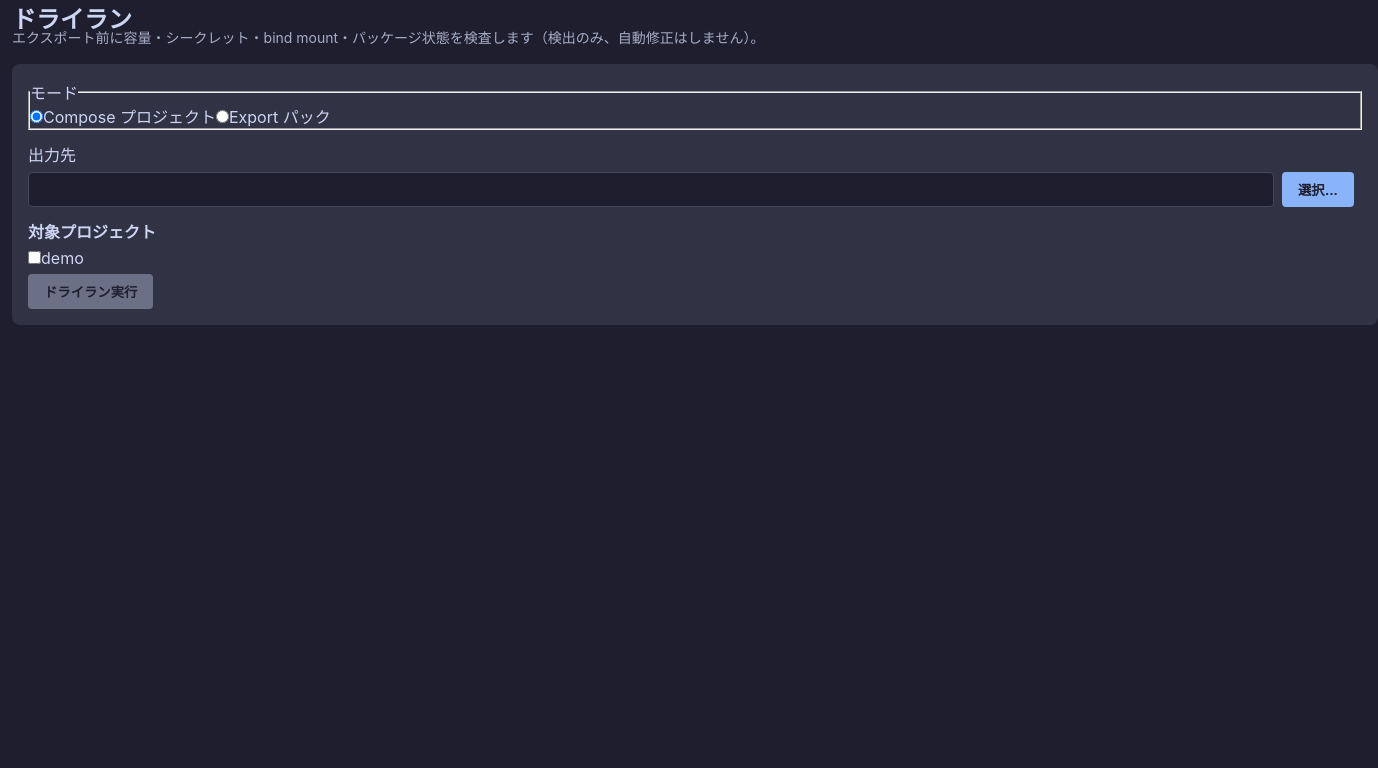
Test case: DryRunPage › 実行成功で空結果メッセージ
Expected: the text "demo" is shown, [28,248,84,268]
Type "/tmp/out" into the field at (651,189), box [28,172,1274,207]
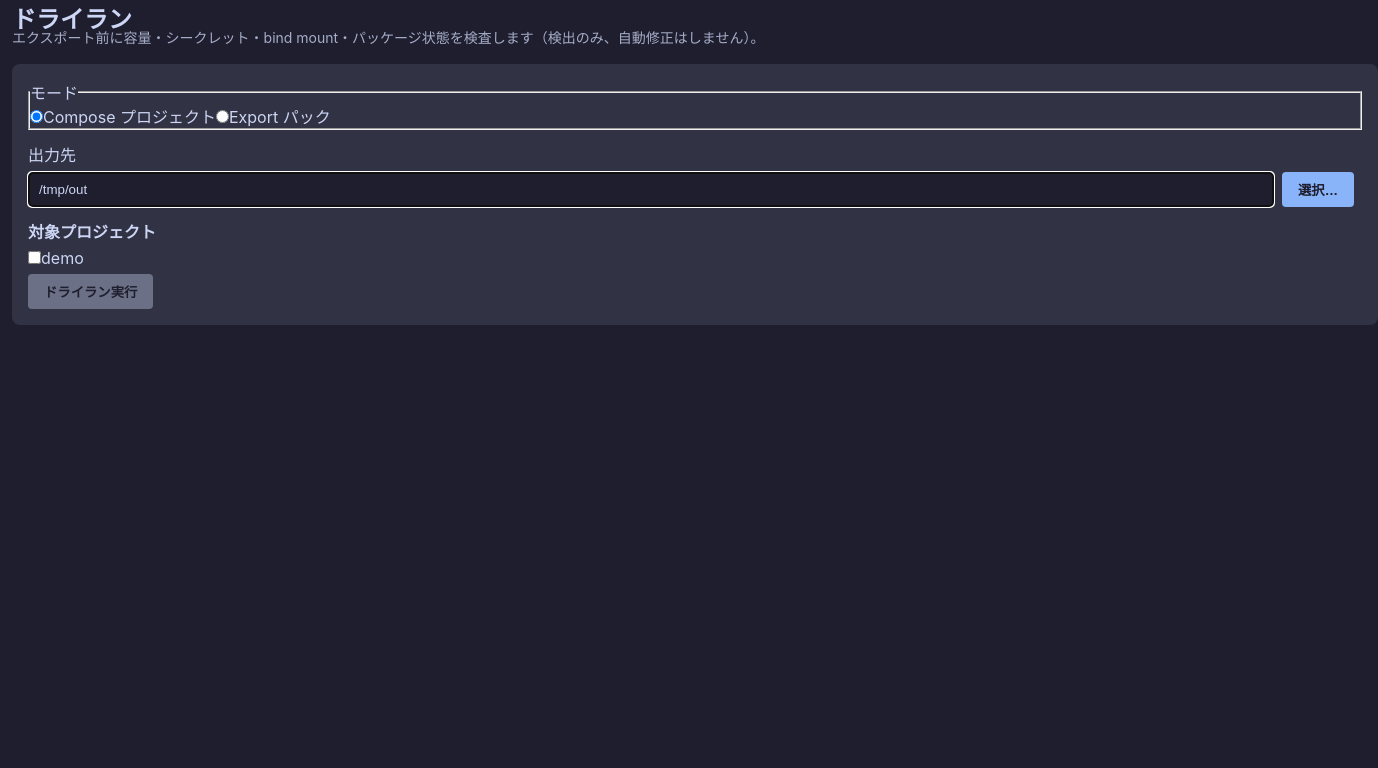
Click the checkbox labelled "demo" at (34,258), box [28,251,41,264]
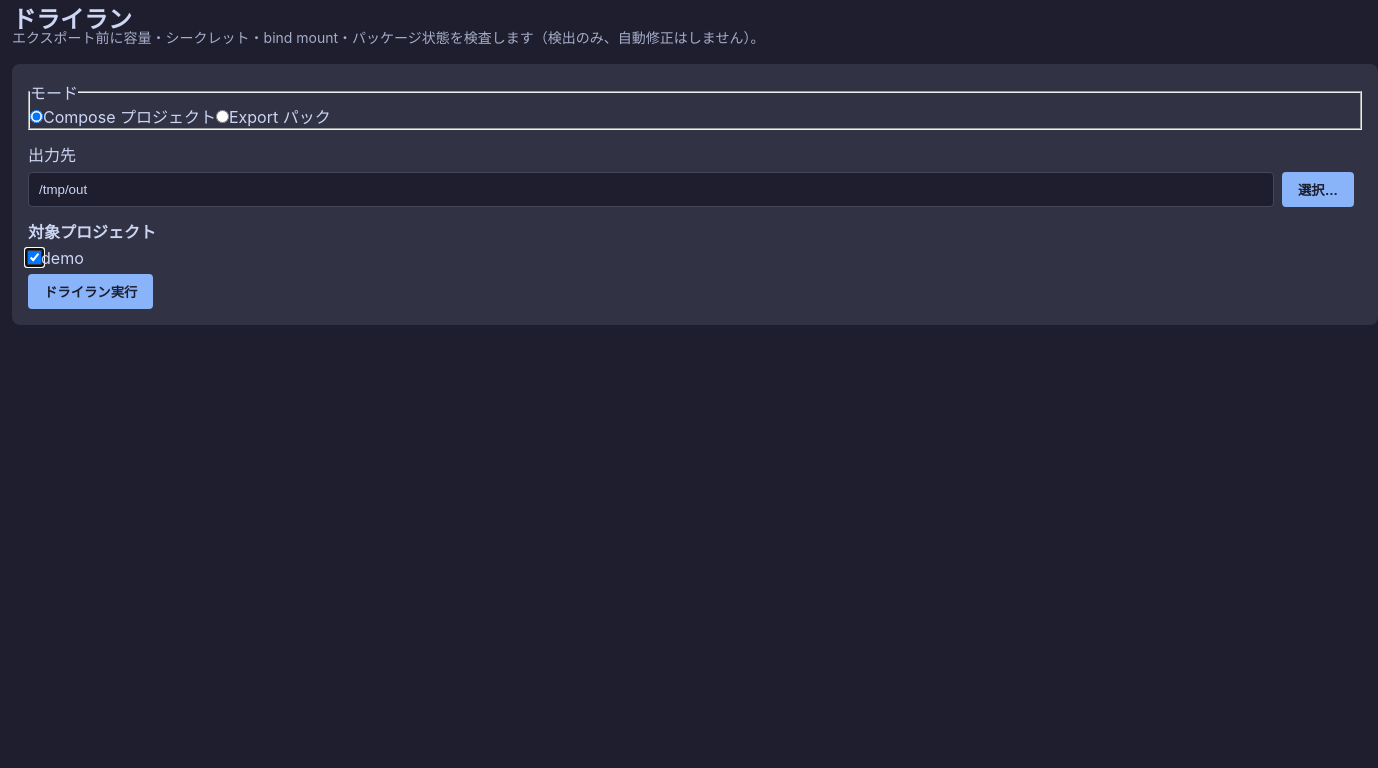
Click the button "ドライラン実行" at (91,291), box [28,274,153,309]
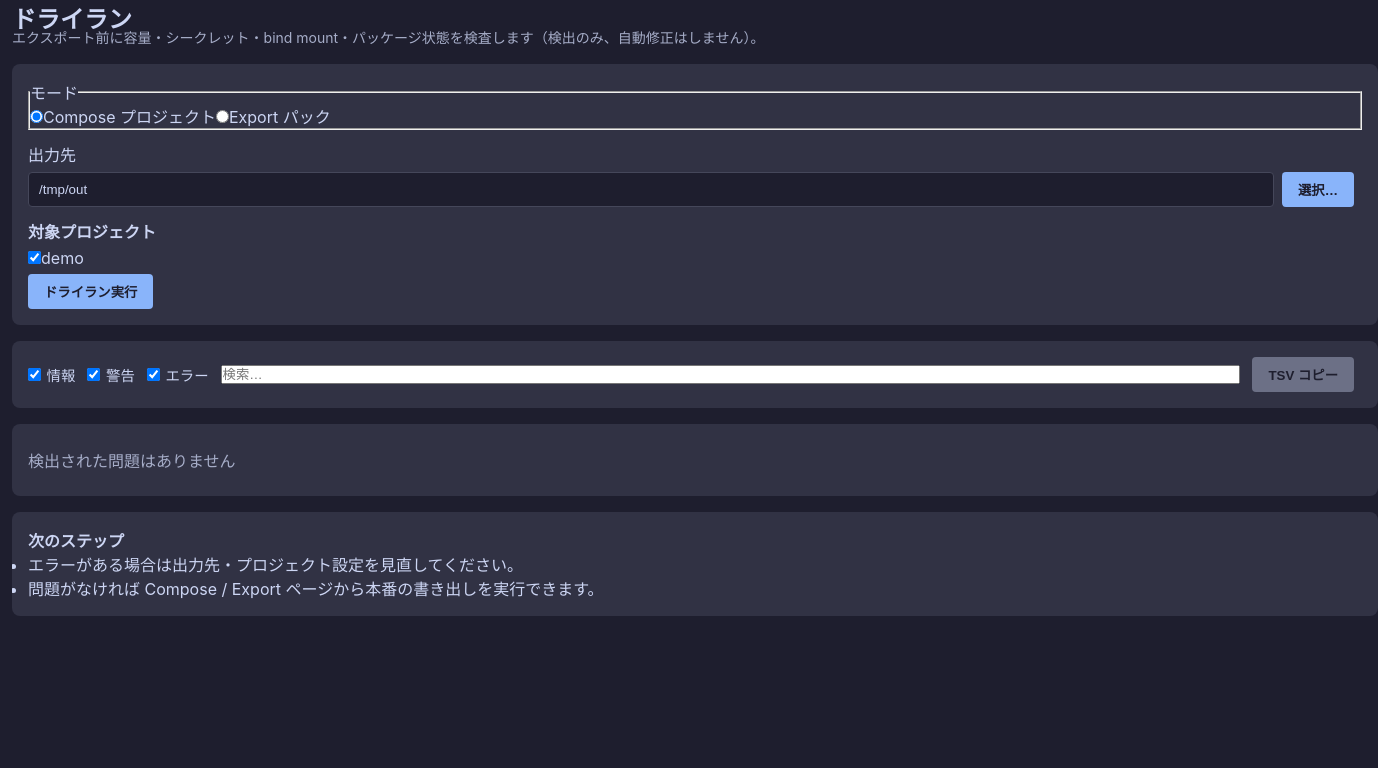
Now the text "検出された問題はありません" is shown, box [28,451,236,471]
